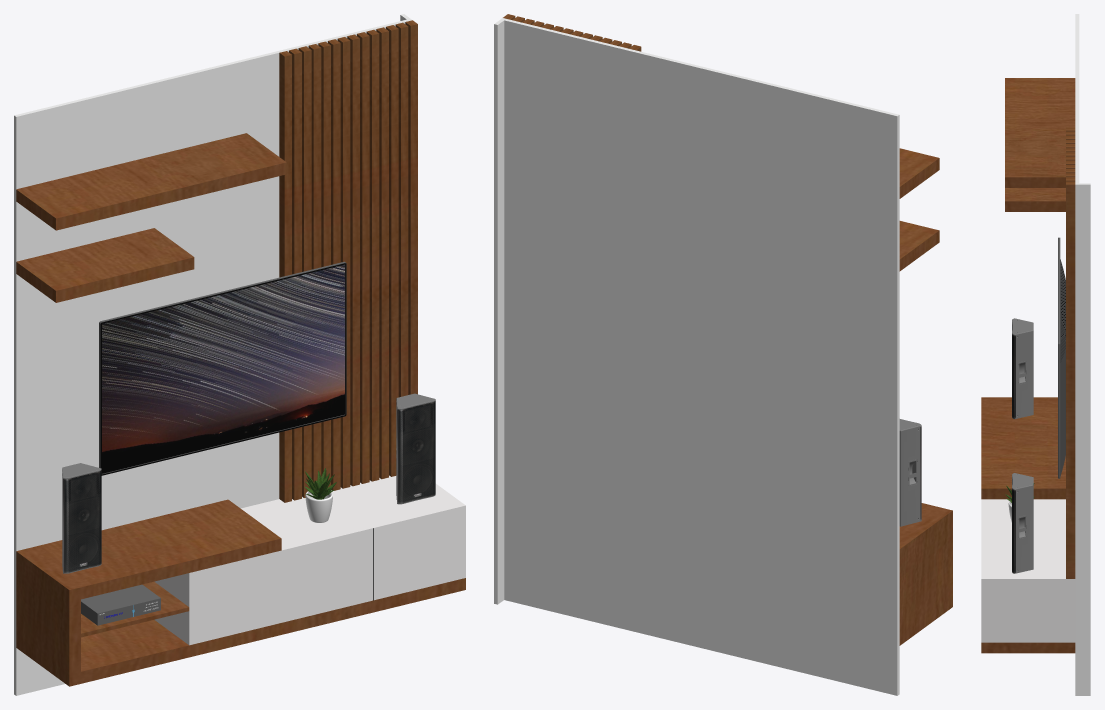
Rendered from tv_stand_with_tv_&_wall.glb.
3 renders of one model, left to right at view 1: azimuth 30°, elevation 25°; view 2: azimuth 150°, elevation 25°; view 3: azimuth 270°, elevation 25°, orthographic. The views are drawn at different scales.
Parts seen in each view (by area): view 1: Material2 (×22), Material3 (×6); view 2: Material3 (×2), Material2 (×4); view 3: Material2 (×9), Material3 (×6).
Boxes of the visible parts, box(x1,y1,x2,y2) form: Material2 (×22): box(16, 20, 465, 686); Material3 (×6): box(14, 18, 412, 695); Material3 (×2): box(494, 18, 899, 695); Material2 (×4): box(899, 148, 952, 645); Material2 (×9): box(981, 78, 1075, 653); Material3 (×6): box(1058, 14, 1090, 695).
Bounding box in the file's own units: 67.72 × 94.49 × 18.27.
22 materials, 7 textured.
